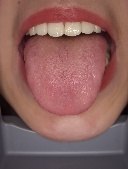tongue: (23, 40, 107, 116)
